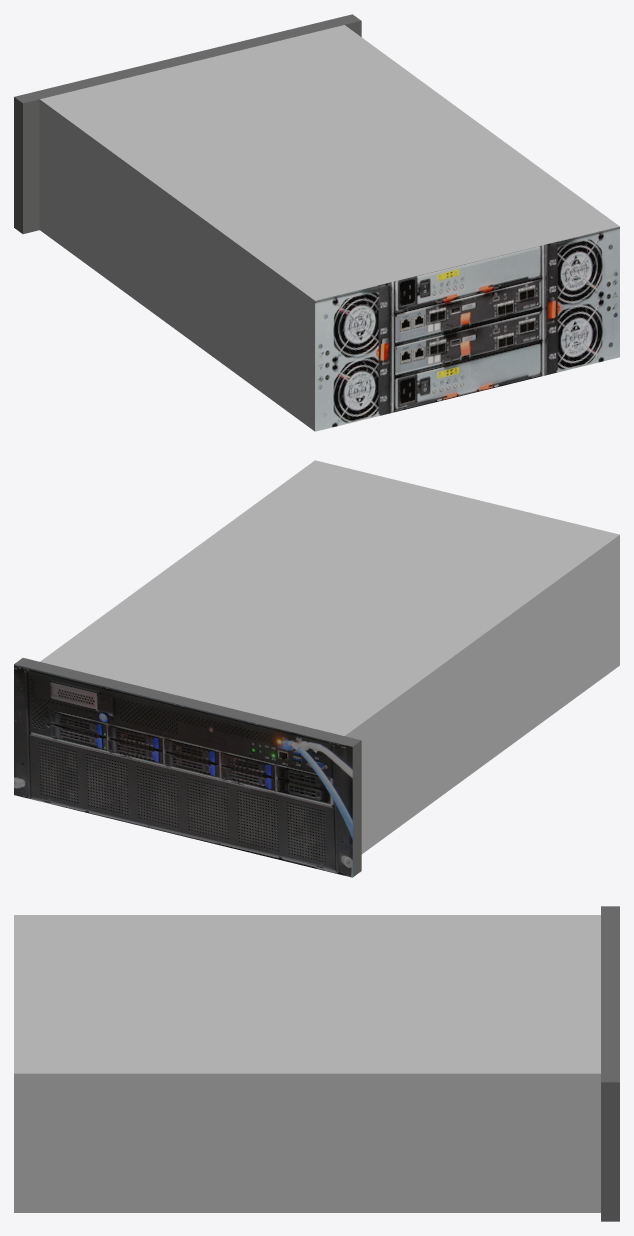
3 views of the same model, one above another, from view 1: azimuth 30°, elevation 25°; view 2: azimuth 150°, elevation 25°; view 3: azimuth 270°, elevation 25° (orthographic). The views are drawn at different scales.
Visible parts, largest first — view 1: Chassis_Cube; view 2: Chassis_Cube; view 3: Chassis_Cube.
Boxes of the visible parts, x1,y1,x2,y2 form: Chassis_Cube: (14,14,619,431); Chassis_Cube: (14,460,619,877); Chassis_Cube: (14,906,619,1221).
Bounding box in the file's own units: 0.6426 × 0.2373 × 0.9344.
